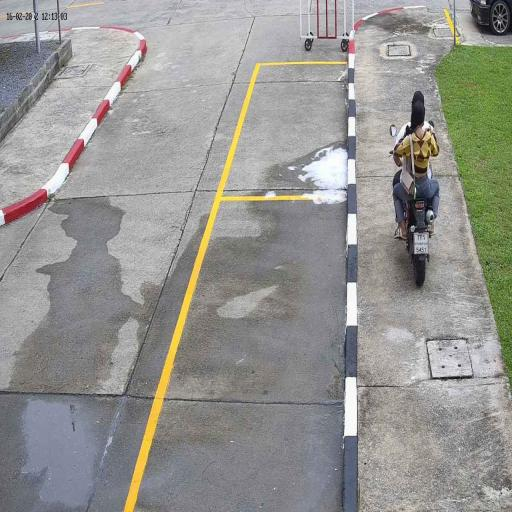motorcycle: (390, 143, 436, 286)
